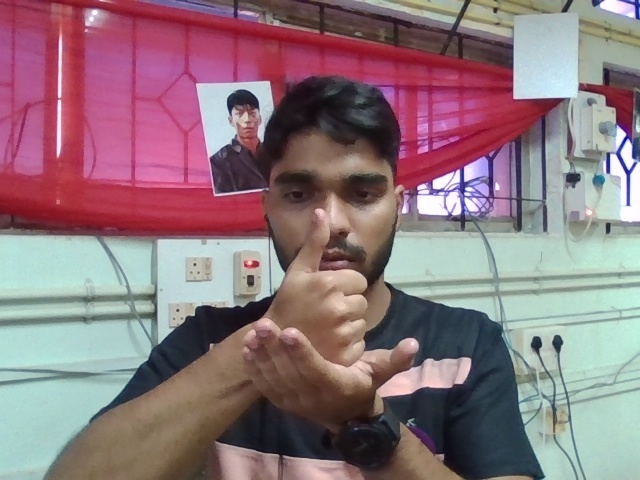help: (235, 206, 437, 442)
